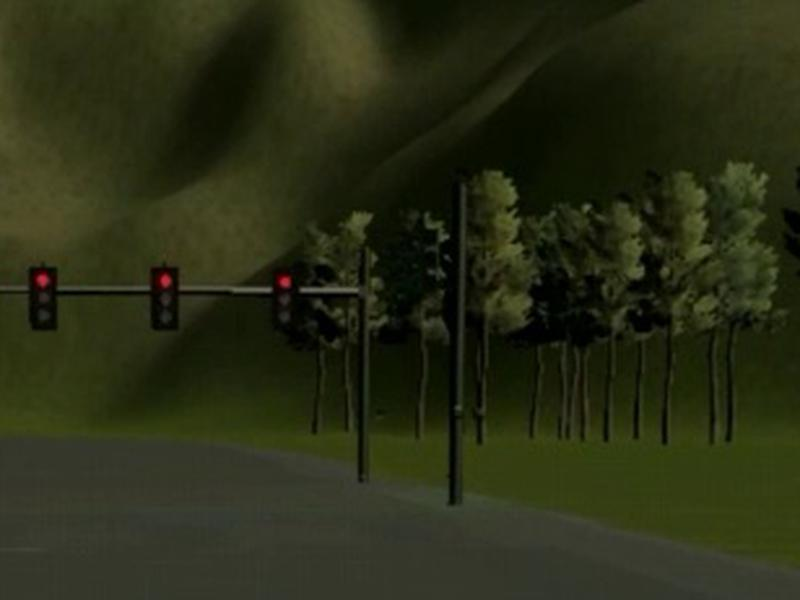Red: (29, 269, 58, 331), (150, 269, 180, 328), (273, 268, 296, 331)
